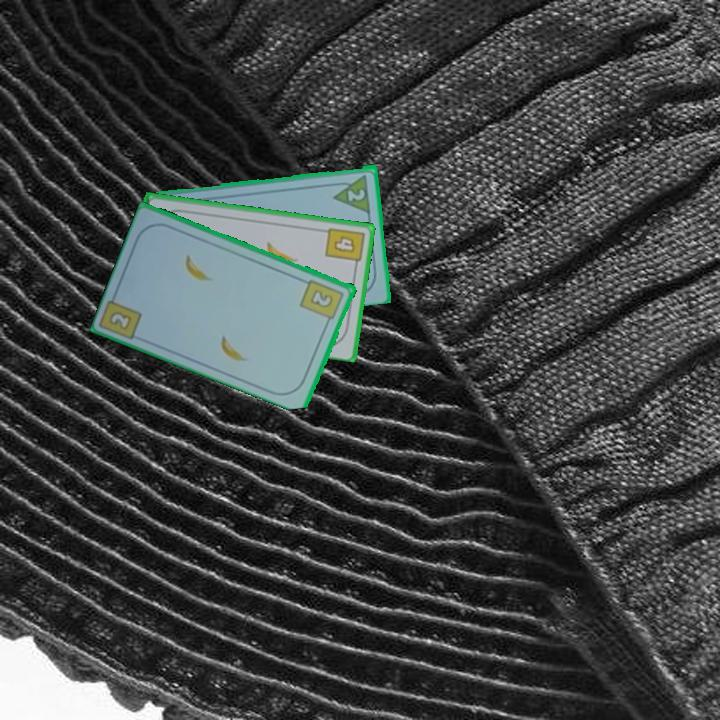2b: (297, 276, 347, 327), (106, 308, 135, 333)
2p: (329, 171, 373, 214)
4b: (322, 224, 367, 270)
